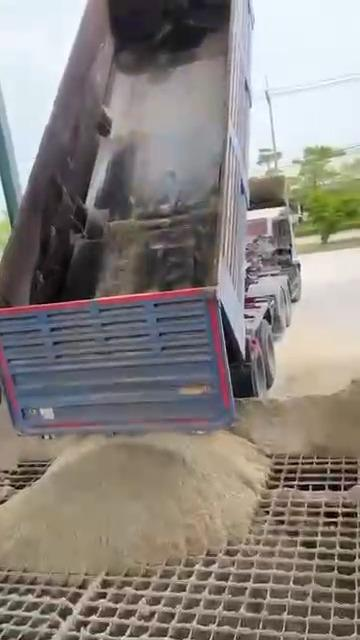sand: (0, 432, 267, 572), (234, 380, 359, 456), (0, 408, 75, 471), (54, 574, 103, 639), (272, 484, 359, 507)
